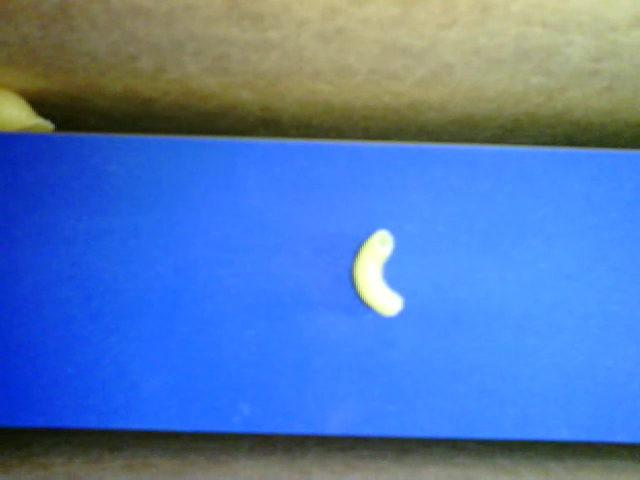elbow: (350, 226, 407, 318)
shell: (1, 88, 58, 133)
